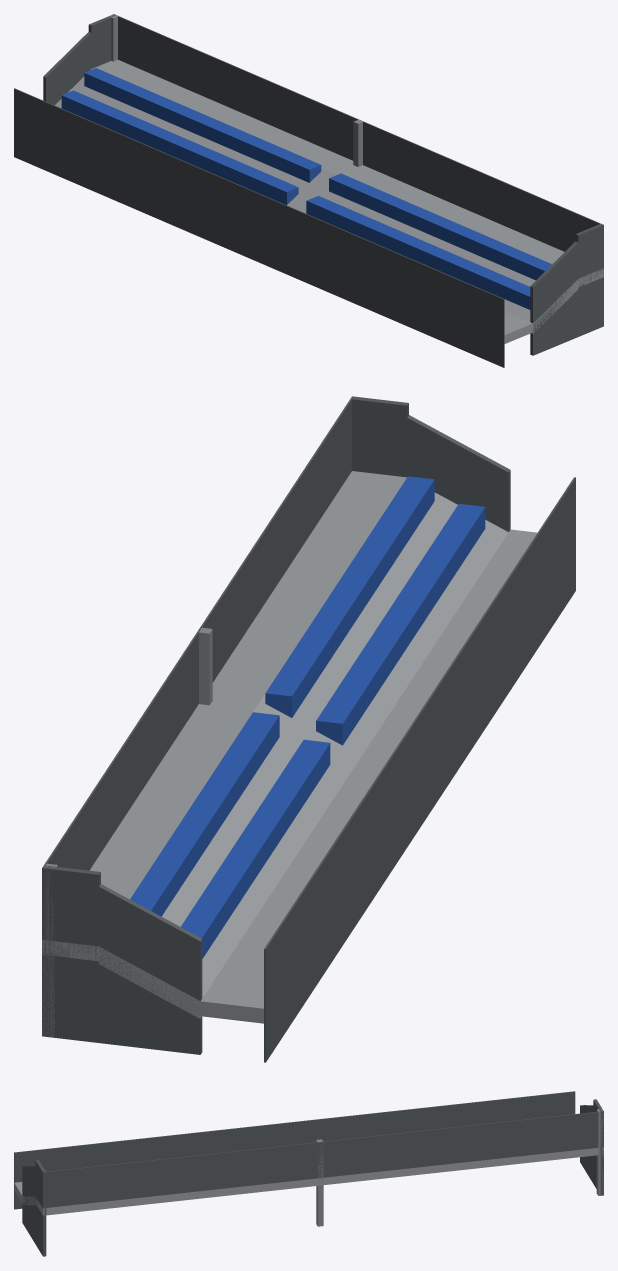
The model's file is mza_stand_trib_p04.glb.
3 views of the same model, one above another, from view 1: azimuth 30°, elevation 25°; view 2: azimuth 150°, elevation 25°; view 3: azimuth 270°, elevation 25° (orthographic). The views are drawn at different scales.
Visible parts, largest first — view 1: monza-trib-p04; view 2: monza-trib-p04; view 3: monza-trib-p04.
Boxes of the visible parts, x1=… form: monza-trib-p04: x1=14, y1=14, x2=603, y2=367; monza-trib-p04: x1=42, y1=396, x2=575, y2=1062; monza-trib-p04: x1=14, y1=1091, x2=603, y2=1256.
Size of the model in its own units: 7.82 by 2.82 by 17.92.
